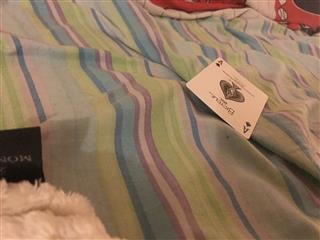AceOfSpades: (184, 56, 268, 139)
